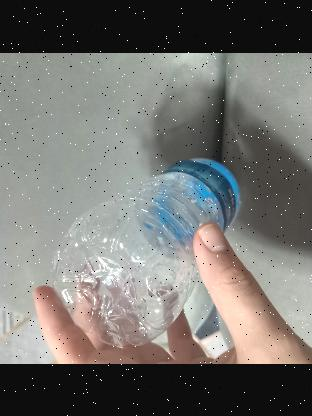Plastic Bottle: (54, 154, 252, 350)
